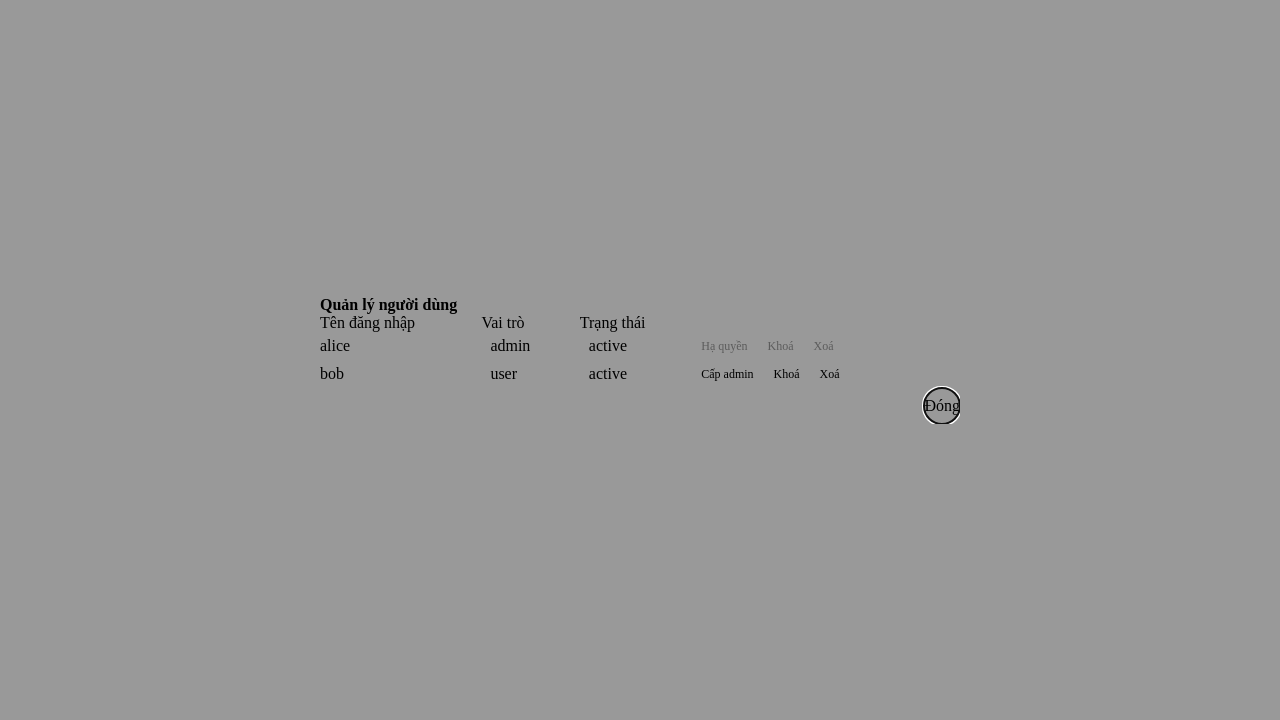
Test: AdminUsersPanel › bấm "Xoá" -> DELETE /users/:id, dòng biến mất
Expected: the text "bob" is shown, x1=320 y1=360 x2=481 y2=388
Click the button "Xoá" in the row of "bob". click: (830,374)
box: x1=810 y1=360 x2=850 y2=388
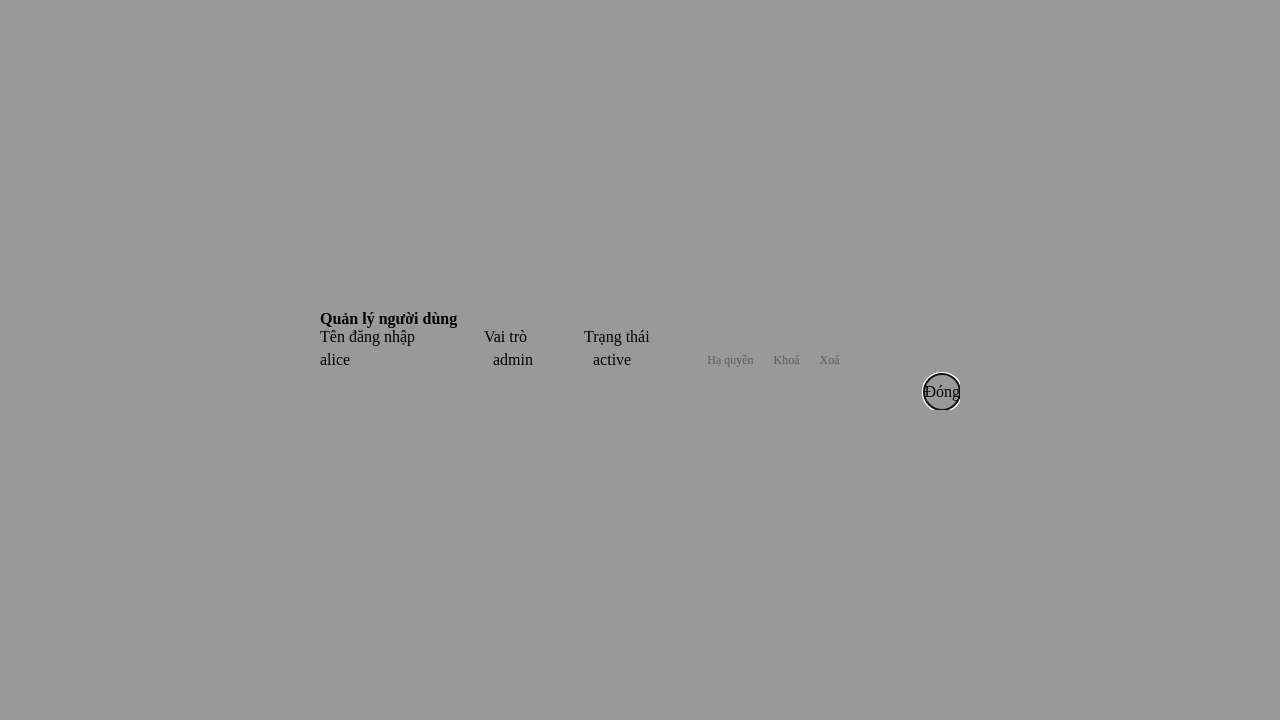
Now the text "bob" is gone
